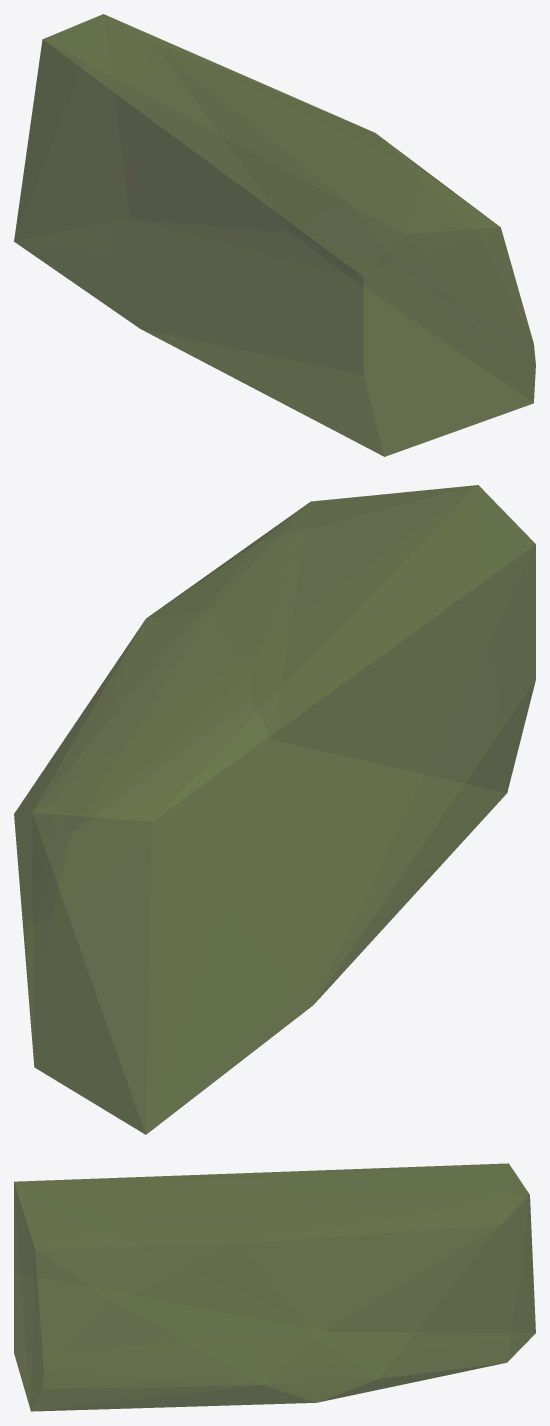
3 views of the same model, one above another, from view 1: azimuth 30°, elevation 25°; view 2: azimuth 150°, elevation 25°; view 3: azimuth 270°, elevation 25° (orthographic). The views are drawn at different scales.
Parts seen in each view (by area): view 1: Shape_IndexedFaceSet.020_Shape_IndexedFaceSet.11098; view 2: Shape_IndexedFaceSet.020_Shape_IndexedFaceSet.11098; view 3: Shape_IndexedFaceSet.020_Shape_IndexedFaceSet.11098.
Boxes of the visible parts, bbox=[...] form: Shape_IndexedFaceSet.020_Shape_IndexedFaceSet.11098: bbox=[14, 14, 535, 456]; Shape_IndexedFaceSet.020_Shape_IndexedFaceSet.11098: bbox=[14, 485, 535, 1134]; Shape_IndexedFaceSet.020_Shape_IndexedFaceSet.11098: bbox=[14, 1163, 535, 1411].
Bounding box in the file's own units: 0.1523 × 0.1437 × 0.3736.
